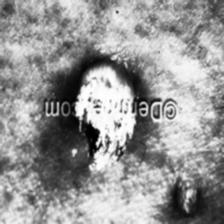Toxin: (75, 69, 137, 173)
